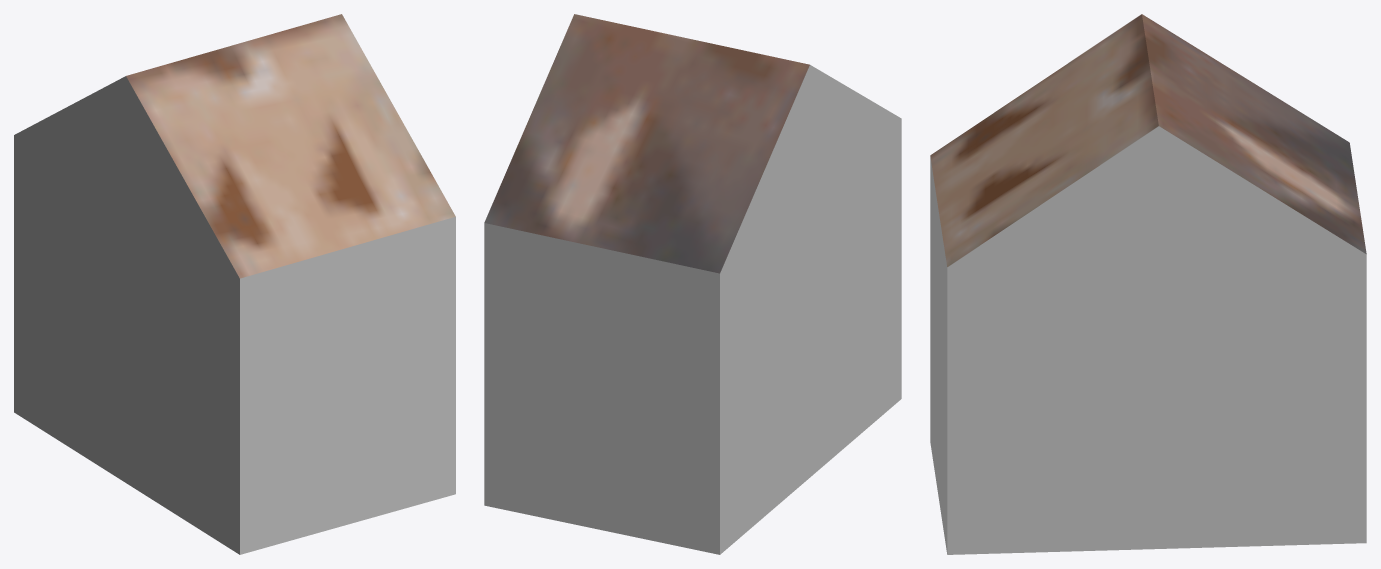
File: DEBW_0010007Txae.gltf
The picture shows the model from 3 angles, left to right: view 1: azimuth 30°, elevation 25°; view 2: azimuth 150°, elevation 25°; view 3: azimuth 270°, elevation 25°; orthographic projection. The views are drawn at different scales.
Visible parts, largest first — view 1: Z_UP; view 2: Z_UP; view 3: Z_UP.
Part boxes in pixels (x1,y1,x2,y2): Z_UP: (14, 14, 455, 554); Z_UP: (484, 14, 901, 554); Z_UP: (930, 14, 1366, 554).
Size of the model in its own units: 6.79 by 10.7 by 10.01.
Materials: 2 (1 with a texture image).
